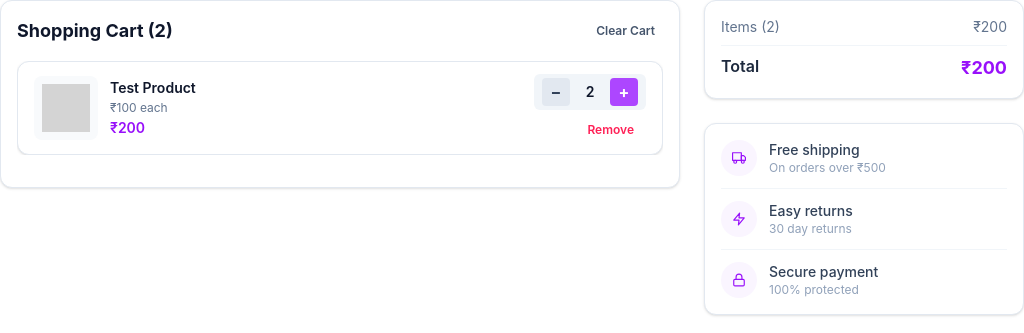
Scenario: CartItem › increments the displayed quantity when + is clicked
Click the button "+": (624,92) x1=610 y1=78 x2=638 y2=106
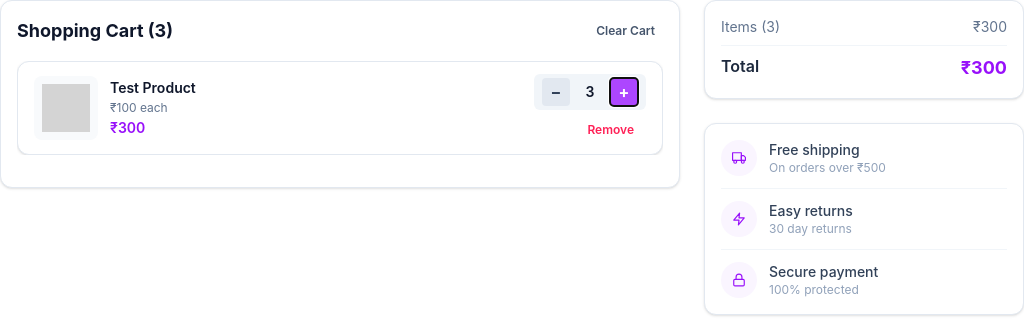
Expected: the text "3" is shown, x1=586 y1=83 x2=594 y2=100
